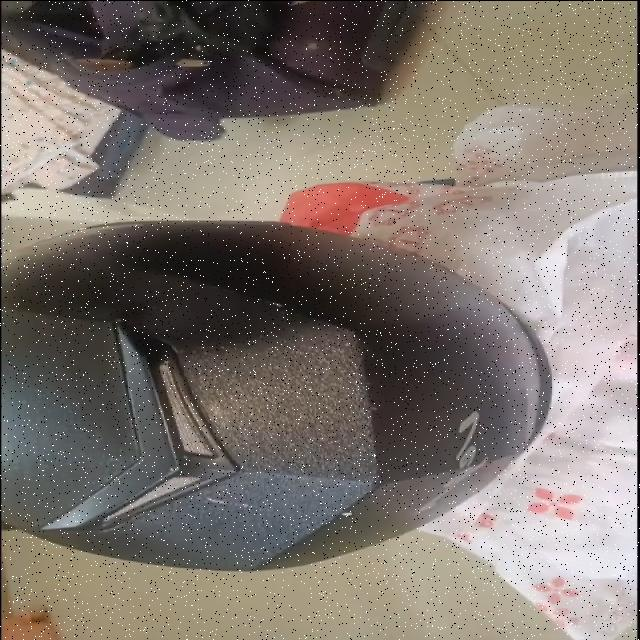Helmet: (4, 217, 555, 571)
